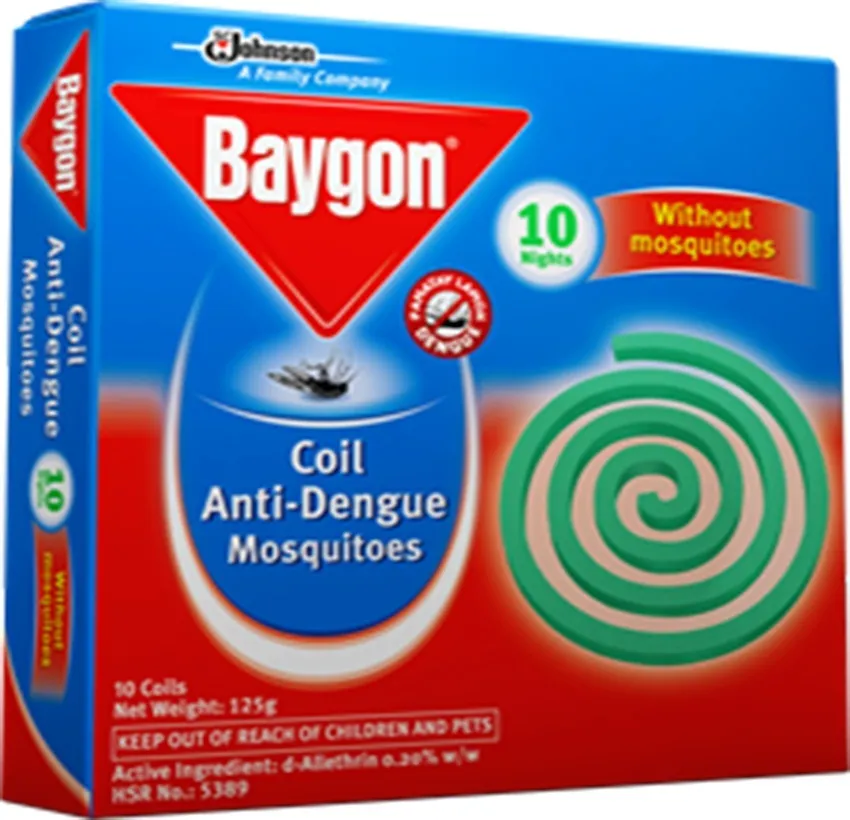Open-Flame-Hazard: (484, 312, 842, 687)
